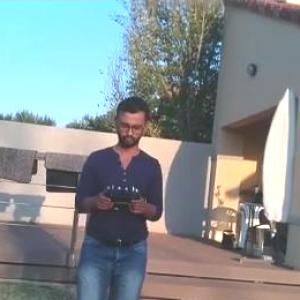follow: (68, 91, 170, 299)
